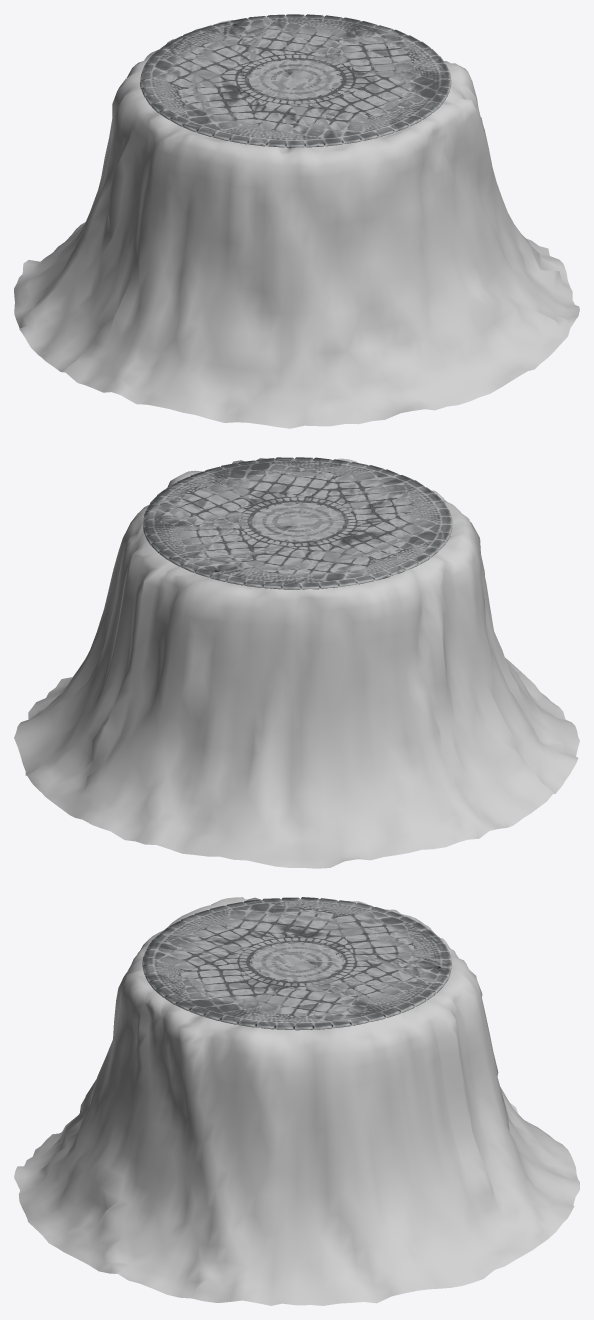
File: ScenarioFinal.fbx
3 views of the same model, one above another, from view 1: azimuth 30°, elevation 25°; view 2: azimuth 150°, elevation 25°; view 3: azimuth 270°, elevation 25° (orthographic).
Parts seen in each view (by area): view 1: BaseLow, CircleofPowerLow; view 2: BaseLow, CircleofPowerLow; view 3: BaseLow, CircleofPowerLow.
Part boxes in pixels (left/top/right/bottom): BaseLow: left=14, top=20, right=579, bottom=428; CircleofPowerLow: left=140, top=14, right=451, bottom=147; BaseLow: left=14, top=458, right=579, bottom=868; CircleofPowerLow: left=143, top=457, right=452, bottom=589; BaseLow: left=14, top=897, right=579, bottom=1305; CircleofPowerLow: left=142, top=897, right=451, bottom=1030.
Size of what is drawn, in the model's own units: 3300 by 1506 by 3325.
